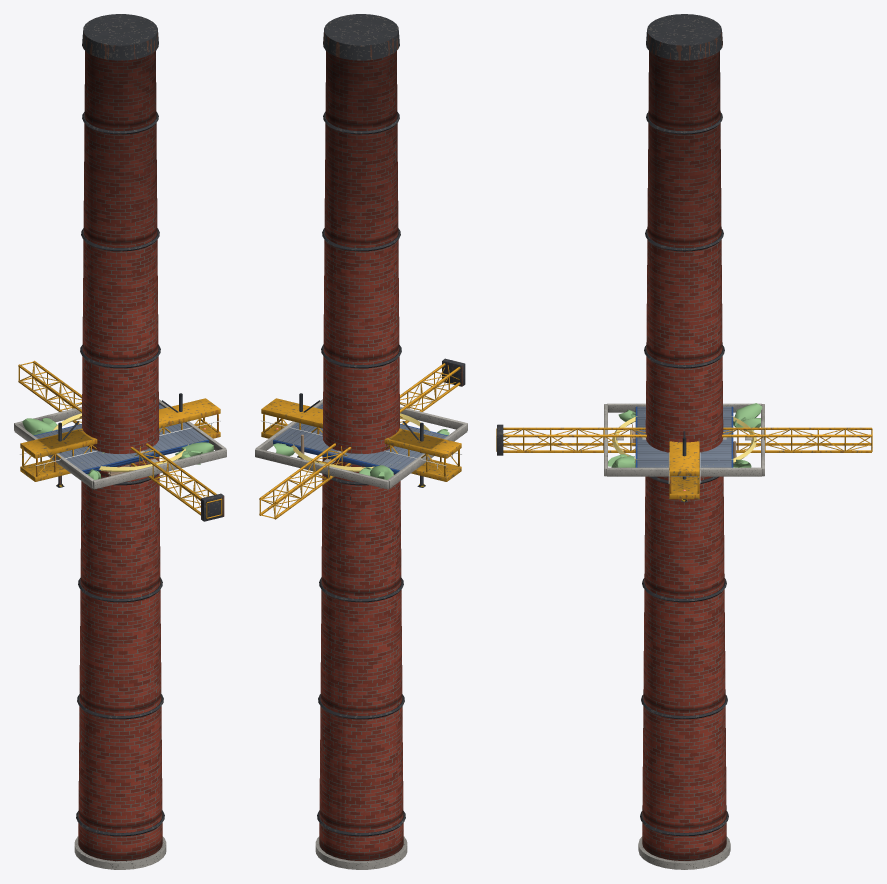
File: Alive.fbx
3 views of the same model, side by side, from view 1: azimuth 30°, elevation 25°; view 2: azimuth 150°, elevation 25°; view 3: azimuth 270°, elevation 25° (orthographic).
Visible parts, largest first — view 1: ChimneyStack.001, ChimneyBands.001, CraneBeamGirder.001, CraneBoomTruss.001, GardenRim.001, CanopyRoof.001, GardenShrubs.001, CanopyFascia.001, PadPaint.001; view 2: ChimneyStack.001, ChimneyBands.001, CraneBeamGirder.001, CraneBoomTruss.001, GardenRim.001, CanopyRoof.001, GardenShrubs.001, CanopyFascia.001, PadPaint.001; view 3: ChimneyStack.001, ChimneyBands.001, CraneBoomTruss.001, GardenRim.001, CanopyRoof.001, CraneBeamGirder.001, GardenShrubs.001.
Boxes of the visible parts, bbox=[...] form: ChimneyStack.001: bbox=[78, 51, 162, 860]; ChimneyBands.001: bbox=[74, 14, 166, 869]; CraneBeamGirder.001: bbox=[20, 398, 220, 481]; CraneBoomTruss.001: bbox=[18, 360, 224, 521]; GardenRim.001: bbox=[14, 399, 226, 489]; CanopyRoof.001: bbox=[35, 405, 207, 470]; GardenShrubs.001: bbox=[22, 418, 213, 479]; CanopyFascia.001: bbox=[34, 404, 208, 473]; PadPaint.001: bbox=[52, 413, 188, 471]; ChimneyStack.001: bbox=[319, 51, 403, 860]; ChimneyBands.001: bbox=[315, 14, 407, 869]; CraneBeamGirder.001: bbox=[261, 398, 461, 481]; CraneBoomTruss.001: bbox=[259, 358, 465, 519]; GardenRim.001: bbox=[255, 399, 467, 489]; CanopyRoof.001: bbox=[274, 405, 446, 470]; GardenShrubs.001: bbox=[273, 429, 449, 479]; CanopyFascia.001: bbox=[273, 404, 447, 473]; PadPaint.001: bbox=[291, 413, 429, 471]; ChimneyStack.001: bbox=[642, 51, 726, 860]; ChimneyBands.001: bbox=[638, 14, 730, 869]; CraneBoomTruss.001: bbox=[496, 424, 872, 455]; GardenRim.001: bbox=[604, 403, 764, 476]; CanopyRoof.001: bbox=[637, 406, 731, 467]; CraneBeamGirder.001: bbox=[669, 441, 699, 499]; GardenShrubs.001: bbox=[608, 403, 762, 467].
Size of the model in its own units: 40 by 169 by 70.24.
35 materials, 11 textured.
